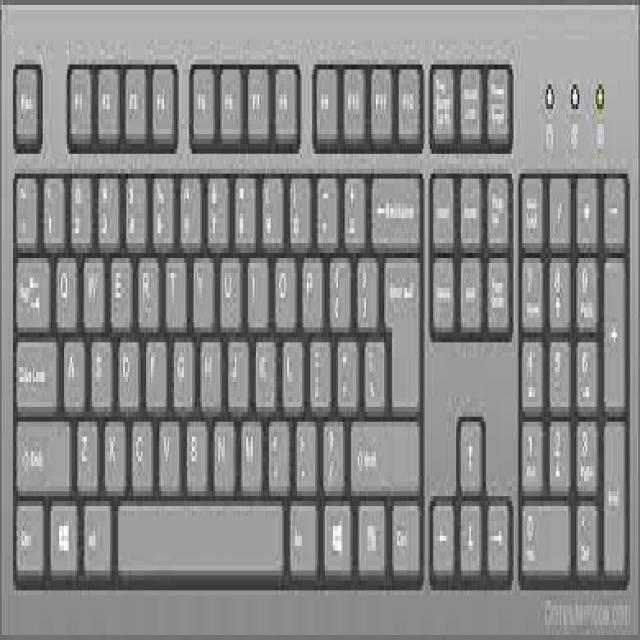others: (2, 5, 635, 630)
